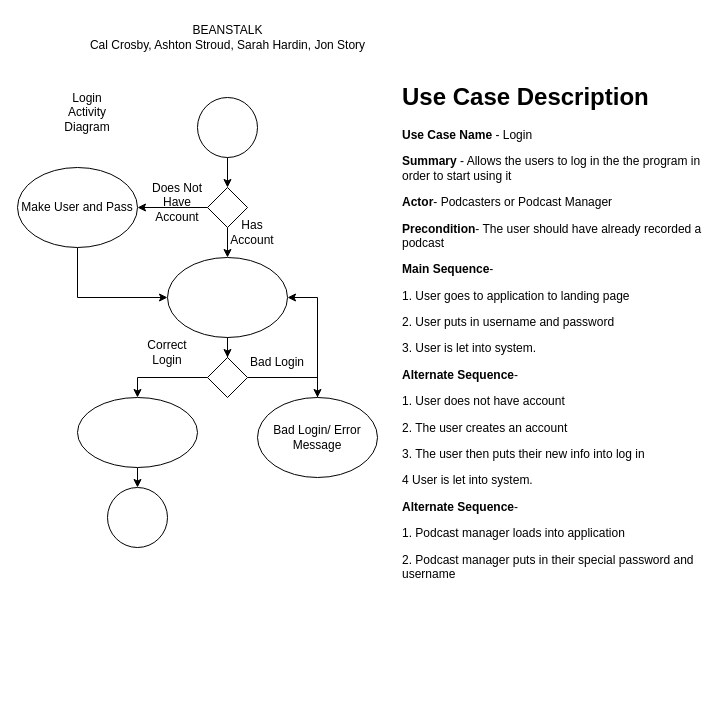
Image size: 725x724. Some labels were removed from this diagram. The centre of each missing label's shape, as x and y in pixels:
Successful Login: point 137,432
User and Pass: point 227,297
